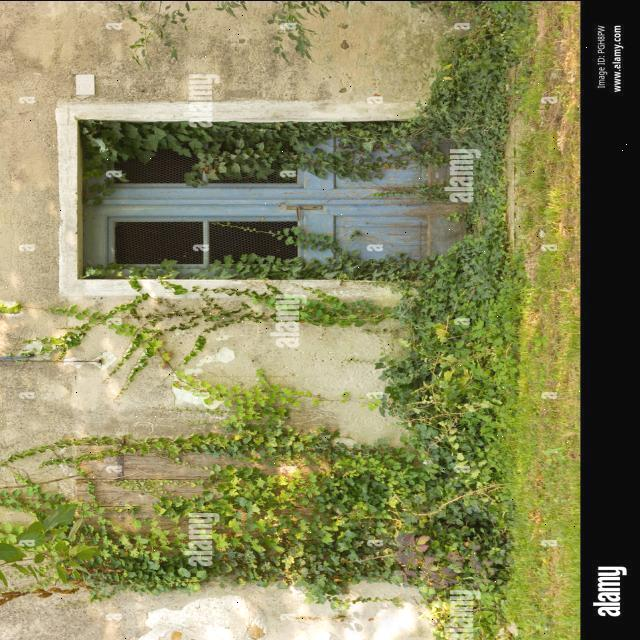crack: (3, 365, 152, 468)
dampness: (2, 13, 70, 304)
vegetation: (4, 5, 545, 631), (251, 289, 510, 634), (83, 111, 465, 272), (415, 5, 529, 156), (83, 120, 309, 194), (75, 487, 220, 592), (86, 286, 209, 398), (0, 491, 102, 596), (6, 431, 222, 474), (291, 126, 429, 186), (116, 2, 188, 70), (3, 319, 96, 363), (266, 2, 322, 66), (81, 127, 125, 207), (83, 258, 183, 279)
